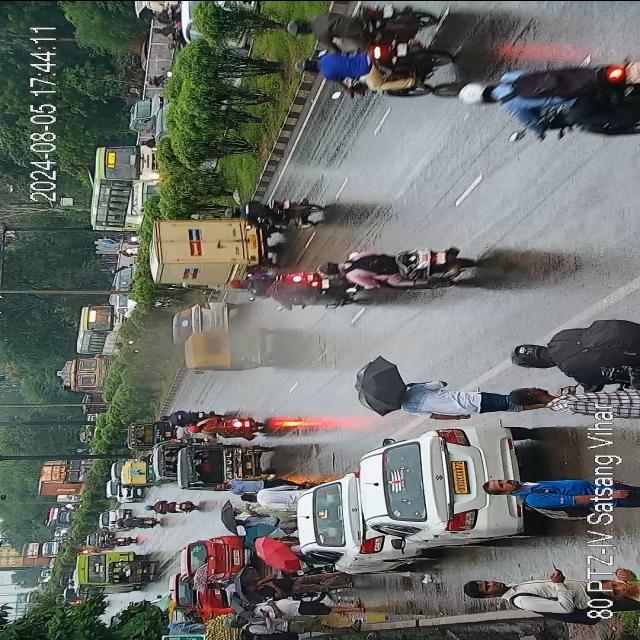2-wheelers: (262, 0, 452, 104), (455, 44, 640, 148), (316, 247, 474, 297), (230, 188, 322, 234), (200, 410, 262, 440), (165, 402, 209, 430), (148, 496, 200, 518), (102, 532, 136, 544)
auto: (180, 438, 264, 490), (185, 325, 272, 370), (126, 417, 174, 448), (156, 440, 182, 480), (124, 456, 154, 488)
bus: (90, 142, 168, 233), (75, 541, 146, 595), (78, 301, 124, 354)
car: (360, 426, 534, 564), (298, 476, 396, 568), (182, 533, 242, 582), (119, 88, 167, 133), (169, 306, 208, 344), (105, 472, 139, 504), (98, 506, 125, 532), (85, 526, 105, 546)
pedestrian: (516, 312, 640, 374), (470, 571, 640, 612), (381, 375, 518, 417), (490, 471, 600, 518), (526, 381, 634, 421), (236, 592, 352, 618), (244, 569, 350, 596), (232, 615, 350, 636), (240, 479, 306, 512), (217, 475, 269, 495)
truck: (146, 208, 278, 296), (38, 457, 98, 498), (73, 352, 111, 410), (20, 538, 62, 568)
